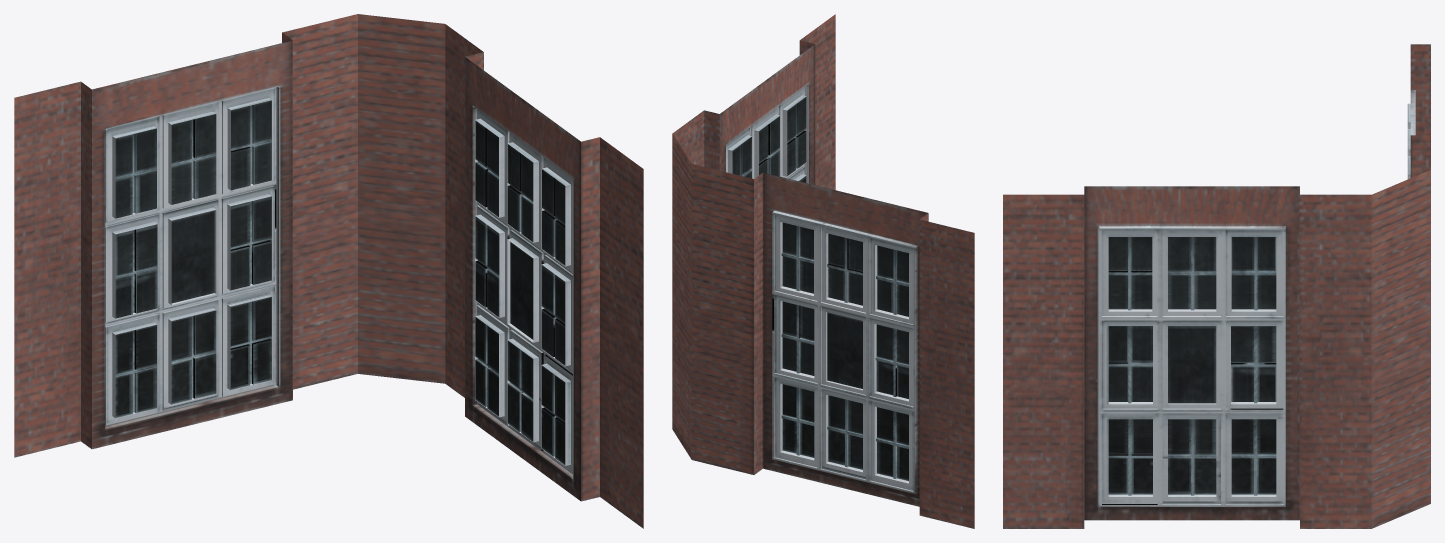
Rendered from corner2.glb.
3 renders of one model, left to right at view 1: azimuth 30°, elevation 25°; view 2: azimuth 150°, elevation 25°; view 3: azimuth 270°, elevation 25°, orthographic. The views are drawn at different scales.
Visible parts, largest first — view 1: 10-0-UF_CornerWall_Baked; view 2: 10-0-UF_CornerWall_Baked; view 3: 10-0-UF_CornerWall_Baked.
Part boxes in pixels (box(x1,y1,x2,y2)): 10-0-UF_CornerWall_Baked: box(14, 14, 643, 528); 10-0-UF_CornerWall_Baked: box(672, 14, 974, 528); 10-0-UF_CornerWall_Baked: box(1003, 44, 1430, 528).
Bounding box in the file's own units: 1.16 × 1 × 1.16.
Materials: 1 (1 with a texture image).
